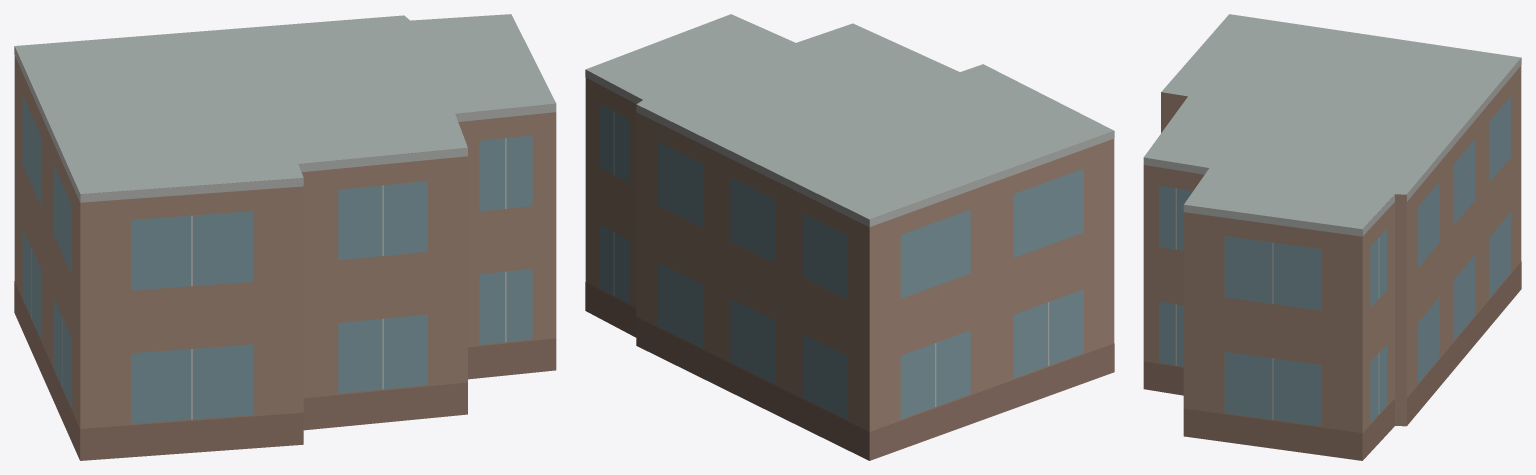
File: survey-upis-33001703.glb
3 views of the same model, side by side, from view 1: azimuth 30°, elevation 25°; view 2: azimuth 150°, elevation 25°; view 3: azimuth 270°, elevation 25° (orthographic). The views are drawn at different scales.
Parts seen in each view (by area): view 1: survey-upis-33001703.tmp; view 2: survey-upis-33001703.tmp; view 3: survey-upis-33001703.tmp.
Part boxes in pixels (x1,y1,x2,y2): survey-upis-33001703.tmp: (14,14,556,460); survey-upis-33001703.tmp: (585,14,1114,460); survey-upis-33001703.tmp: (1143,14,1521,460).
Bounding box in the file's own units: 15.15 × 7.6 × 11.24.
